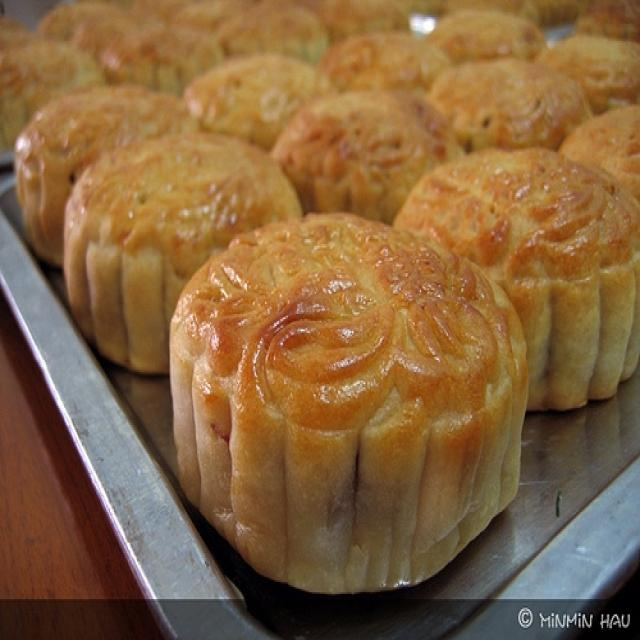蛋糕甜品: (18, 11, 623, 586)
